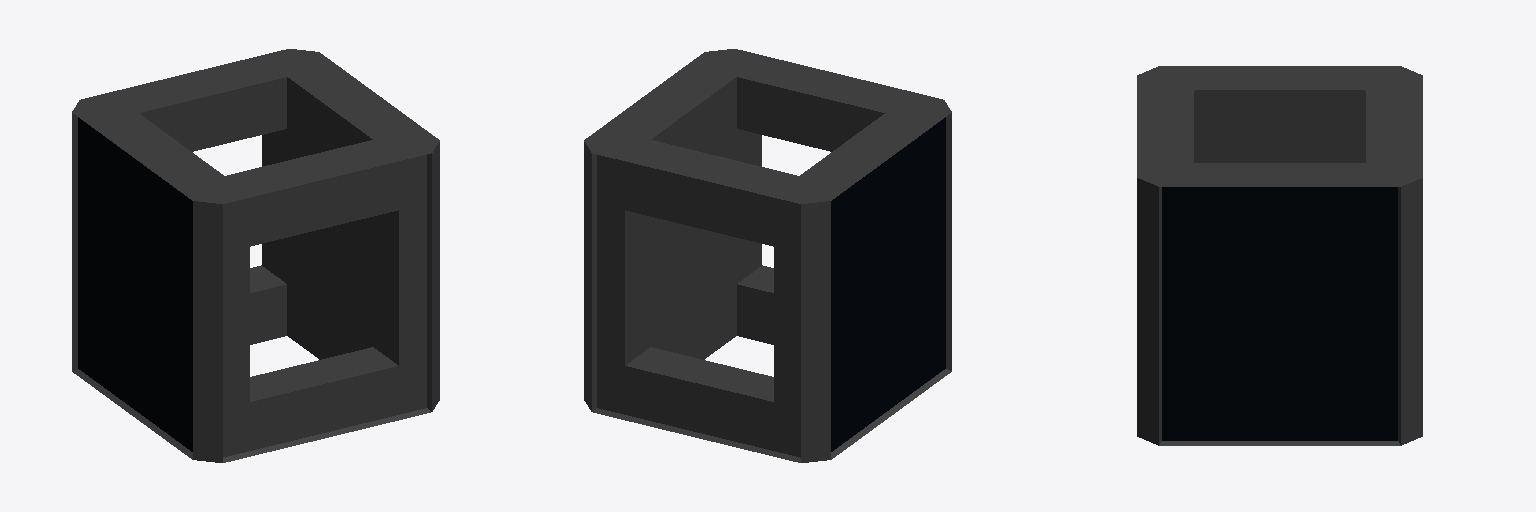
File: hole_stationary.obj
3 renders of one model, left to right at view 1: azimuth 30°, elevation 25°; view 2: azimuth 150°, elevation 25°; view 3: azimuth 270°, elevation 25°, orthographic.
Visible parts, largest first — view 1: Cube.001_Cube.000; view 2: Cube.001_Cube.000; view 3: Cube.001_Cube.000.
Boxes of the visible parts, <box> form: Cube.001_Cube.000: <box>72,49,439,462</box>; Cube.001_Cube.000: <box>584,49,951,462</box>; Cube.001_Cube.000: <box>1137,66,1422,445</box>.
Bounding box in the file's own units: 1 × 1 × 1.